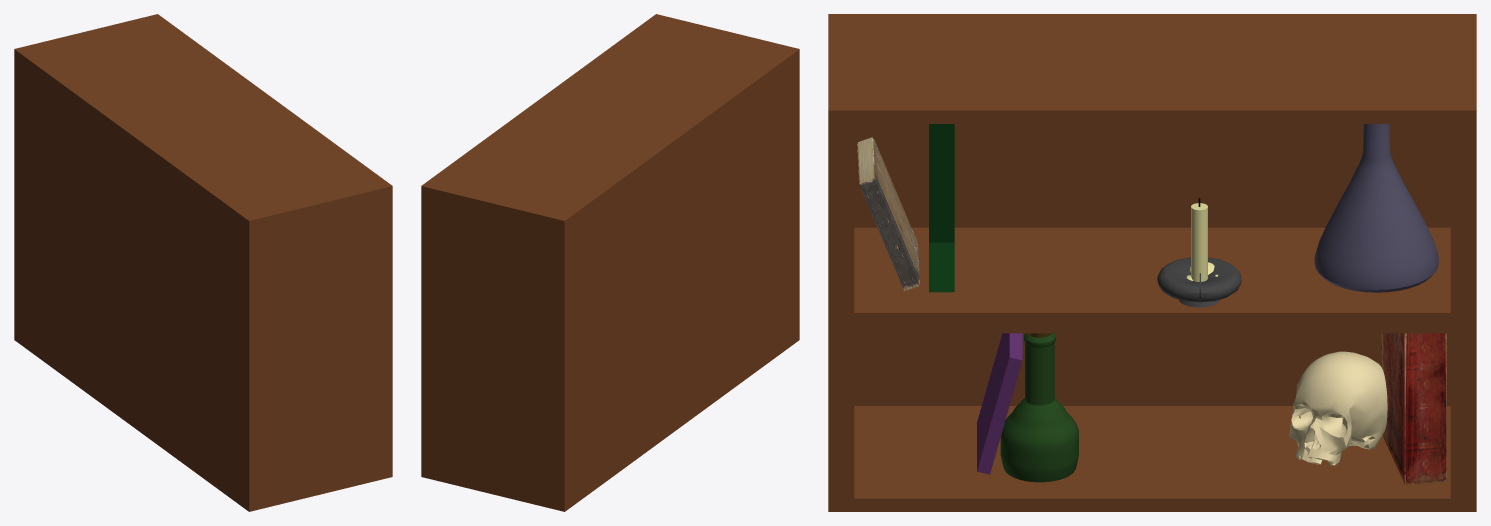
File: cose.fbx
3 renders of one model, left to right at view 1: azimuth 30°, elevation 25°; view 2: azimuth 150°, elevation 25°; view 3: azimuth 270°, elevation 25°, orthographic. The views are drawn at different scales.
Visible parts, largest first — view 1: Torus.018; view 2: Torus.018; view 3: Torus.018.
Part boxes in pixels (x1,y1,x2,y2): Torus.018: (14, 14, 392, 511); Torus.018: (421, 14, 799, 511); Torus.018: (828, 14, 1476, 511).
Size of the model in its own units: 27.76 by 52.37 by 76.68.
Materials: 15 (4 with a texture image).
